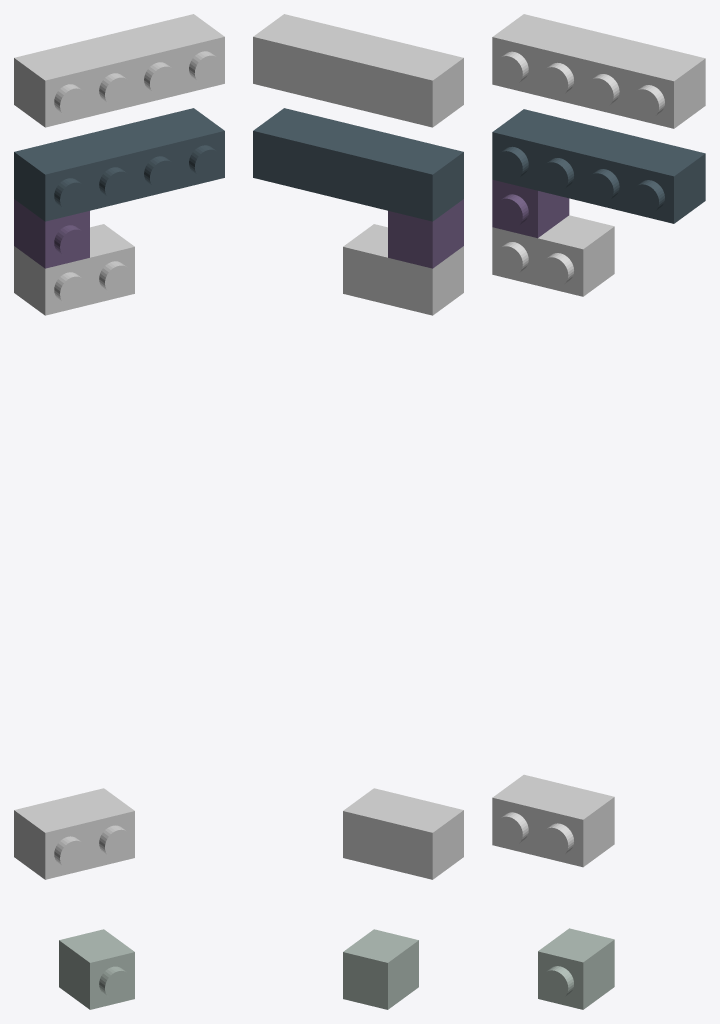
Rendered from current.glb.
The picture shows the model from 3 angles, left to right: view 1: azimuth 30°, elevation 25°; view 2: azimuth 150°, elevation 25°; view 3: azimuth 330°, elevation 25°; orthographic projection.
Visible parts, largest first — view 1: world; view 2: world; view 3: world.
Part boxes in pixels (bbox=[...]): world: bbox=[14, 14, 224, 1009]; world: bbox=[253, 14, 463, 1009]; world: bbox=[492, 14, 705, 1009].
Size of the model in its own units: 32 by 160 by 11.4.
